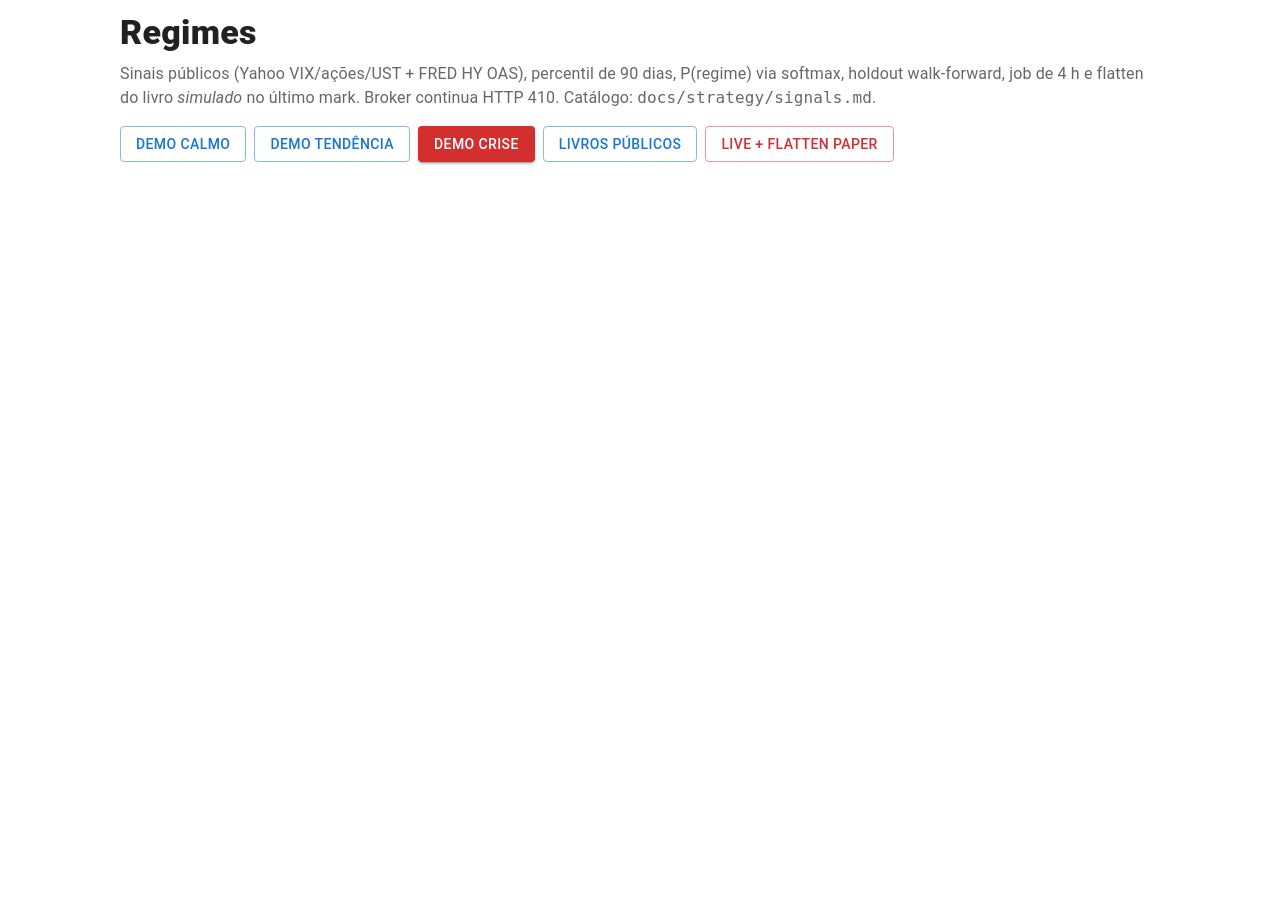
Test: RegimePage › runs the crisis demo and shows the research kill switch
The image size is (1280, 906).
Click the button "Demo crise" at (476, 144), box [418,126,535,162]
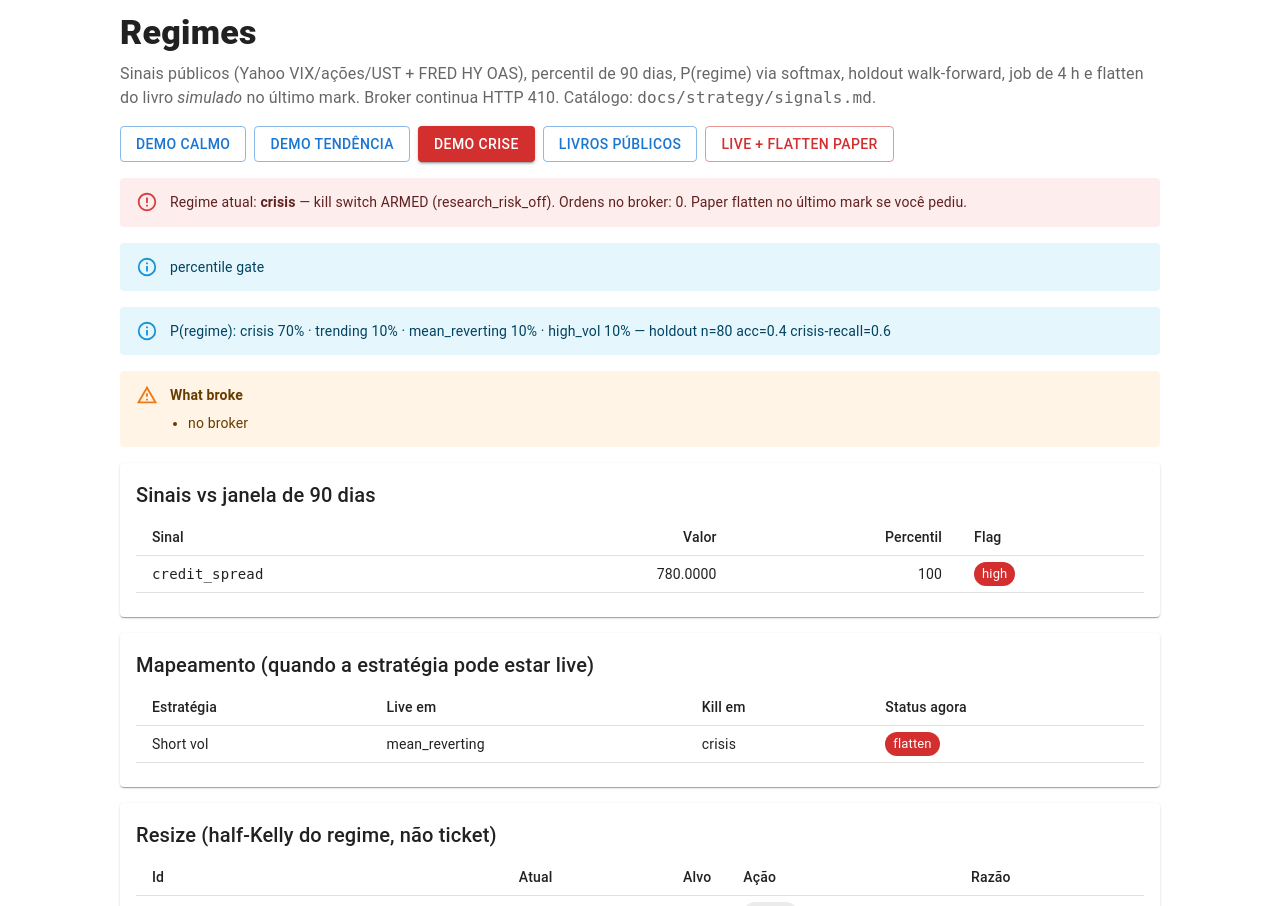
Check: the text "ordens no broker: 0" is shown, box [296,194,967,210]
Check: the text "flatten" in the row of "Short vol" is shown, box [893,736,932,751]
